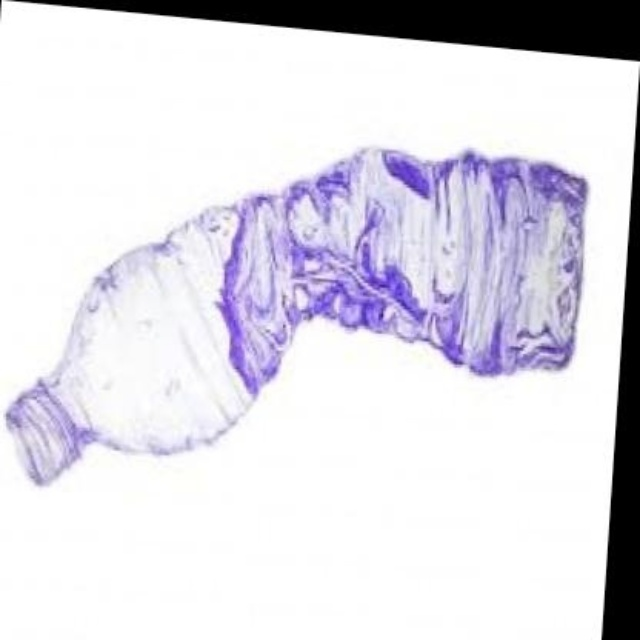trash: (6, 148, 586, 483)
